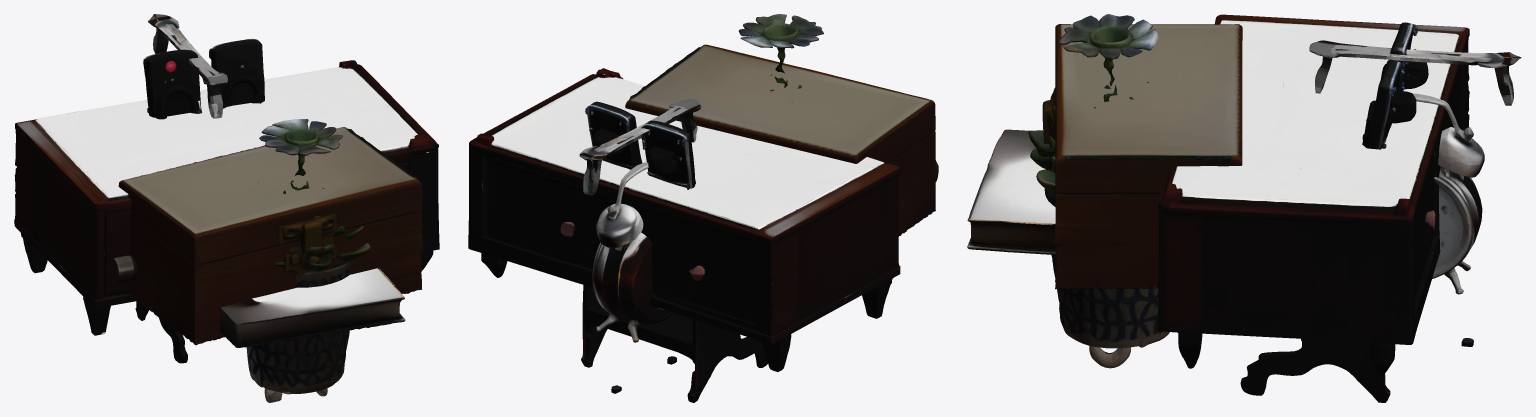
The model's file is scenegen.glb.
3 renders of one model, left to right at view 1: azimuth 30°, elevation 25°; view 2: azimuth 150°, elevation 25°; view 3: azimuth 270°, elevation 25°, orthographic. The views are drawn at different scales.
Visible parts, largest first — view 1: geometry_0, geometry_4, geometry_3, geometry_1, geometry_5, geometry_6, geometry_2; view 2: geometry_4, geometry_0, geometry_5, geometry_6, geometry_3; view 3: geometry_4, geometry_0, geometry_3, geometry_6, geometry_5, geometry_1.
Boxes of the visible parts, x1,y1,x2,y2 form: geometry_0: (118,127,422,345); geometry_4: (14,60,439,335); geometry_3: (246,119,370,402); geometry_1: (220,267,405,347); geometry_5: (135,38,264,363); geometry_6: (148,14,227,118); geometry_2: (114,255,137,283); geometry_4: (468,68,900,371); geometry_0: (625,44,935,236); geometry_5: (581,101,767,402); geometry_6: (579,99,700,393); geometry_3: (738,14,823,102); geometry_4: (1157,14,1469,375); geometry_0: (1037,24,1242,289); geometry_3: (1028,14,1169,368); geometry_6: (1309,40,1521,346); geometry_5: (1240,22,1428,402); geometry_1: (967,129,1055,254).
Bounding box in the file's own units: 1.7 × 1.26 × 1.96.
Materials: 7 (7 with a texture image).
